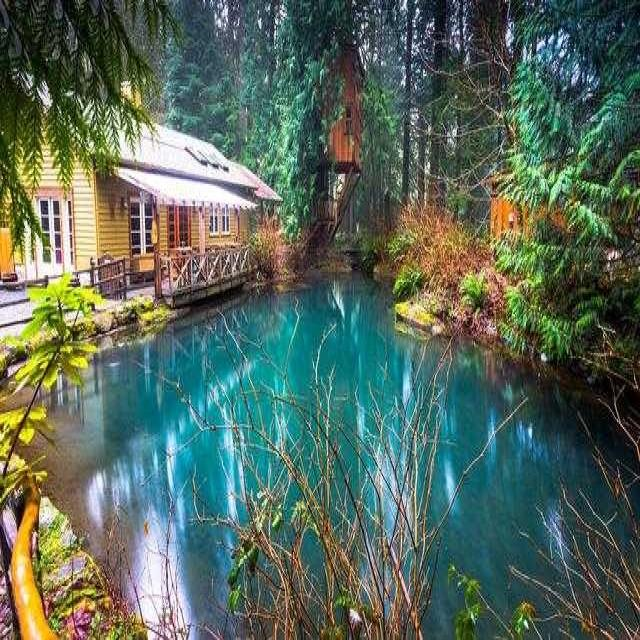Ponds: (14, 247, 640, 639)
